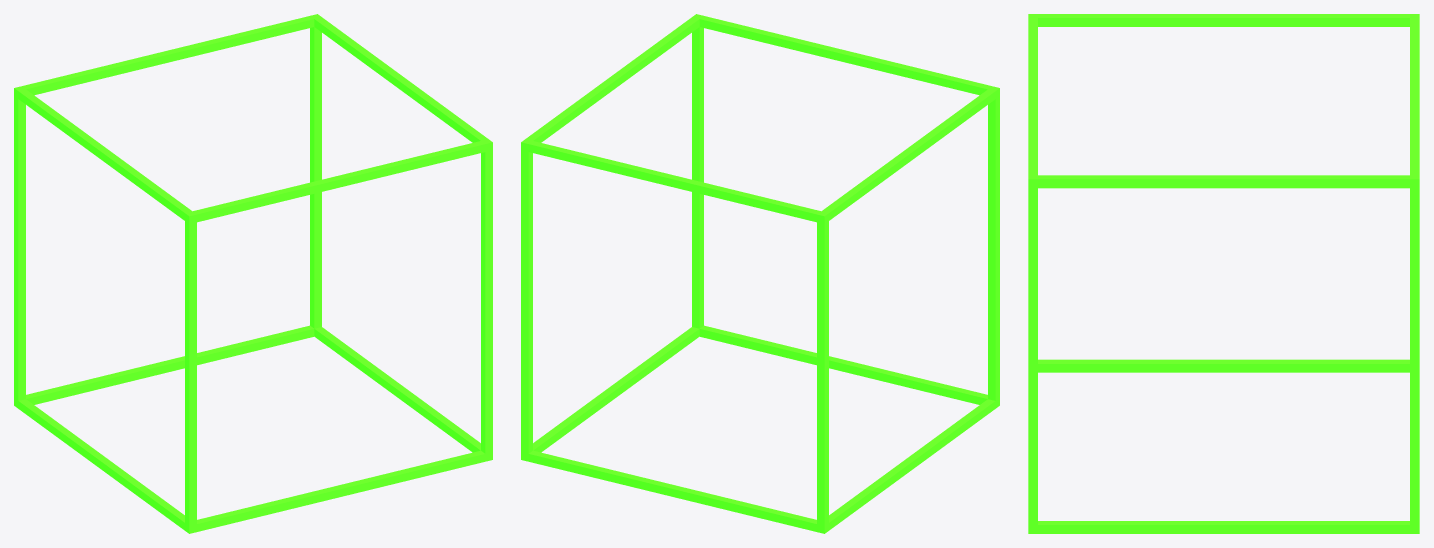
File: guide.glb
3 renders of one model, left to right at view 1: azimuth 30°, elevation 25°; view 2: azimuth 150°, elevation 25°; view 3: azimuth 270°, elevation 25°, orthographic. The views are drawn at different scales.
Visible parts, largest first — view 1: Plane; view 2: Plane; view 3: Plane.
Boxes of the visible parts, bbox=[...] form: Plane: bbox=[14, 14, 492, 533]; Plane: bbox=[521, 14, 999, 533]; Plane: bbox=[1028, 14, 1419, 533].
Bounding box in the file's own units: 0.8 × 0.8 × 0.8.
